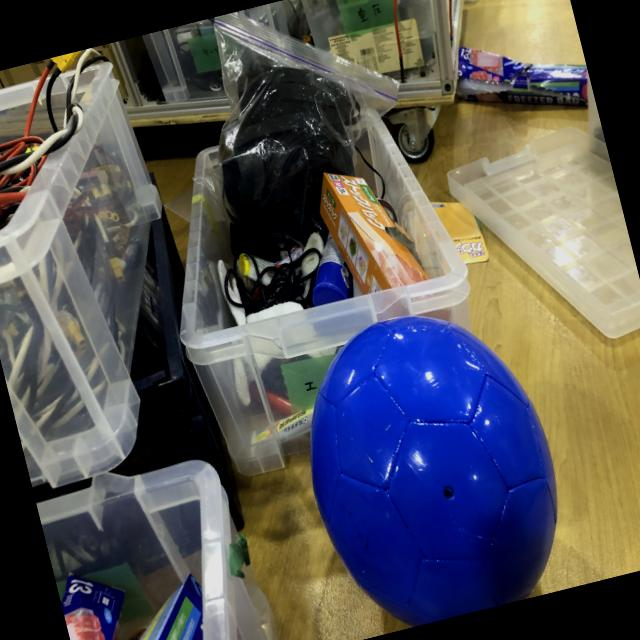blue_ball: (276, 286, 582, 640)
